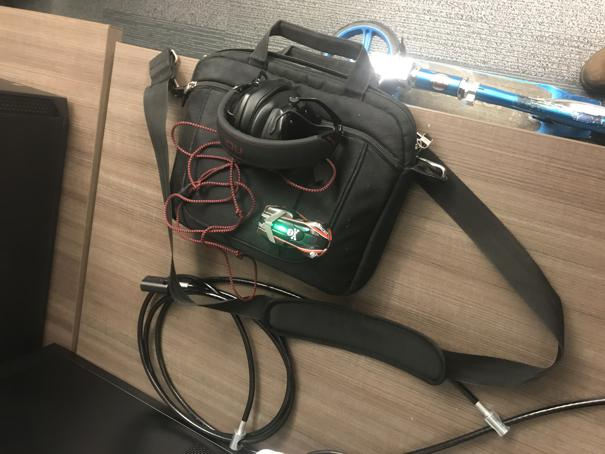Skull: (256, 203, 334, 259)
